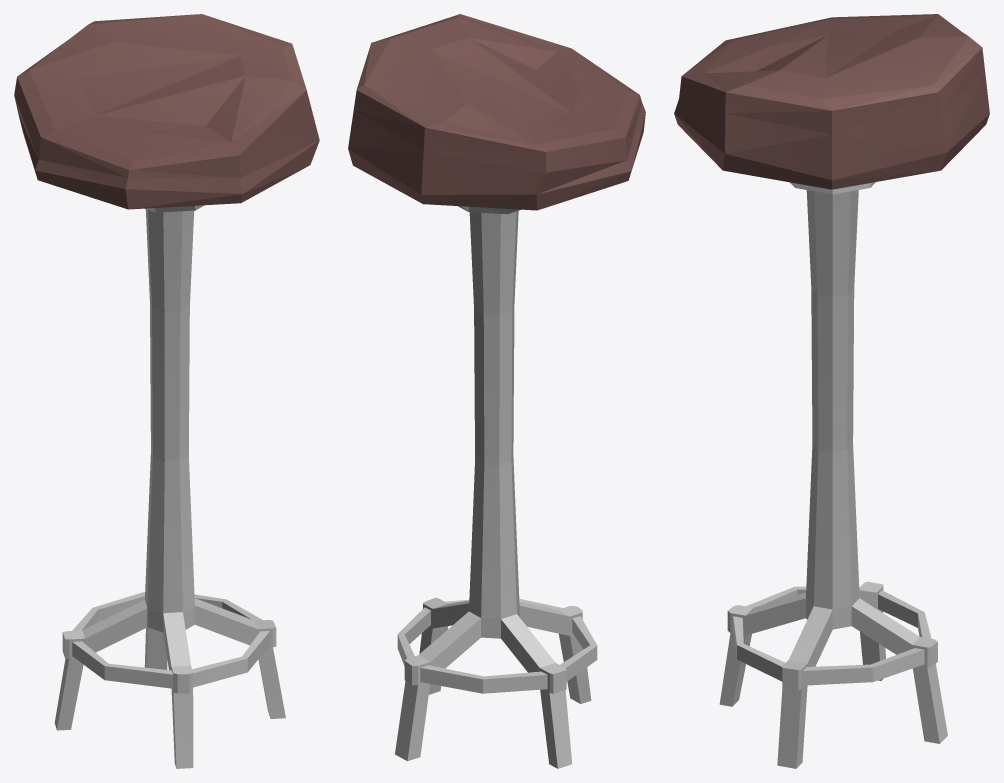
The model's file is bar_stool.obj.
The picture shows the model from 3 angles, left to right: view 1: azimuth 30°, elevation 25°; view 2: azimuth 150°, elevation 25°; view 3: azimuth 270°, elevation 25°; orthographic projection. The views are drawn at different scales.
Visible parts, largest first — view 1: bar_stool_Mesh; view 2: bar_stool_Mesh; view 3: bar_stool_Mesh.
Boxes of the visible parts, <box> form: bar_stool_Mesh: <box>14,14,319,768</box>; bar_stool_Mesh: <box>348,14,645,768</box>; bar_stool_Mesh: <box>674,14,989,768</box>.
Size of the model in its own units: 0.2275 by 0.5371 by 0.2275.
